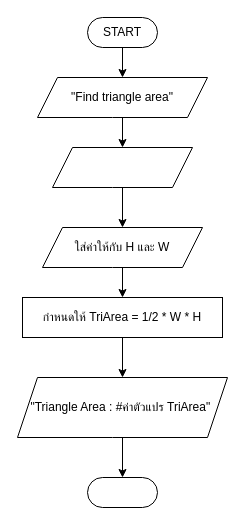
Some shapes in this 245 by 525 pixel diagram are drawn without their labels. The centre of each missing label's shape, as x and y in pixels:
" Enter [ H & W ] : ": point (122, 167)
END: point (122, 492)
